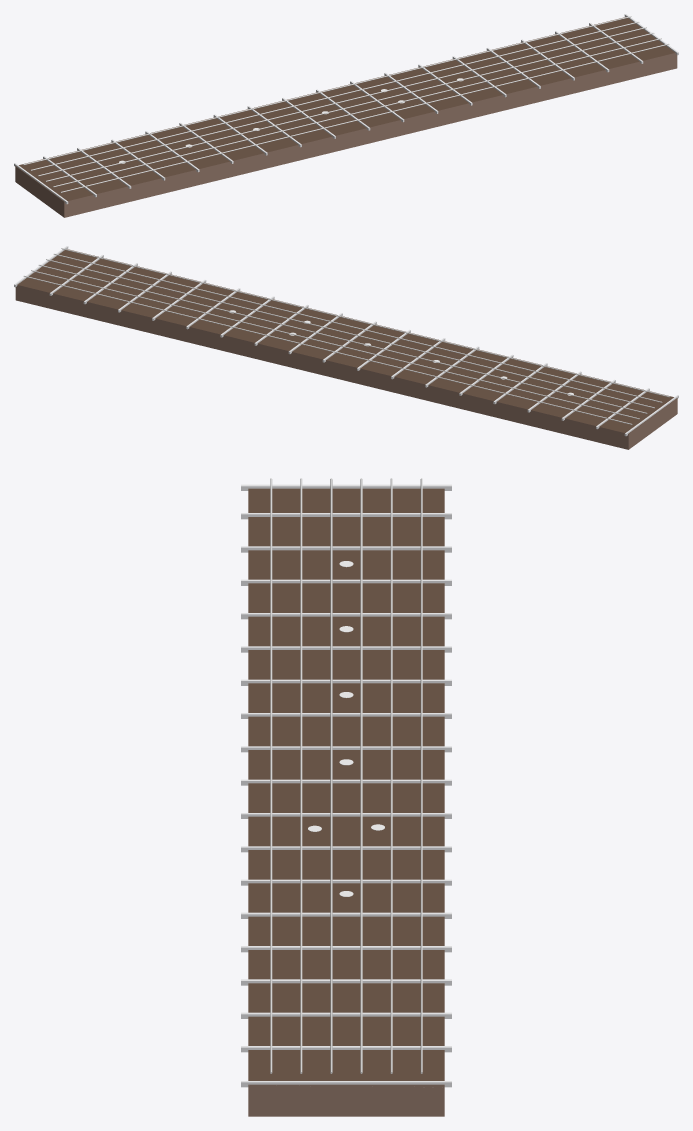
File: Fretboard_V1.1.glb
3 views of the same model, one above another, from view 1: azimuth 30°, elevation 25°; view 2: azimuth 150°, elevation 25°; view 3: azimuth 270°, elevation 25° (orthographic). The views are drawn at different scales.
Visible parts, largest first — view 1: Cube, Cylinder.008, Cylinder.009, Cylinder.010, Cylinder.012, Cylinder.011, Cylinder.007; view 2: Cube, Cylinder.007, Cylinder.009, Cylinder.010, Cylinder.011, Cylinder.008, Cylinder.012; view 3: Cube, Cylinder.008, Cylinder.011, Cylinder.007, Cylinder.009, Cylinder.010, Cylinder.012, Cube.003, Cube.004, Cube.006, Cube.017, Cube.019 (+4 smaller).
Part boxes in pixels (bbox=[...]): Cube: bbox=[15, 17, 677, 217]; Cylinder.008: bbox=[30, 21, 639, 170]; Cylinder.009: bbox=[38, 27, 646, 176]; Cylinder.010: bbox=[45, 32, 654, 181]; Cylinder.012: bbox=[60, 43, 669, 192]; Cylinder.011: bbox=[53, 38, 661, 187]; Cylinder.007: bbox=[23, 16, 631, 165]; Cube: bbox=[15, 249, 677, 449]; Cylinder.007: bbox=[23, 275, 632, 424]; Cylinder.009: bbox=[38, 264, 647, 413]; Cylinder.010: bbox=[46, 259, 654, 408]; Cylinder.011: bbox=[53, 253, 662, 402]; Cylinder.008: bbox=[31, 270, 639, 419]; Cylinder.012: bbox=[61, 248, 669, 397]; Cube: bbox=[248, 488, 444, 1116]; Cylinder.008: bbox=[390, 478, 392, 1073]; Cylinder.011: bbox=[300, 478, 302, 1073]; Cylinder.007: bbox=[420, 478, 422, 1073]; Cylinder.009: bbox=[360, 478, 362, 1073]; Cylinder.010: bbox=[330, 478, 332, 1073]; Cylinder.012: bbox=[270, 478, 272, 1073]; Cube.003: bbox=[241, 1012, 451, 1018]; Cube.004: bbox=[241, 979, 451, 985]; Cube.006: bbox=[241, 912, 451, 918]; Cube.017: bbox=[241, 546, 451, 552]; Cube.019: bbox=[241, 484, 451, 490].
Size of the model in its own units: 4.03 by 0.133 by 0.6.
